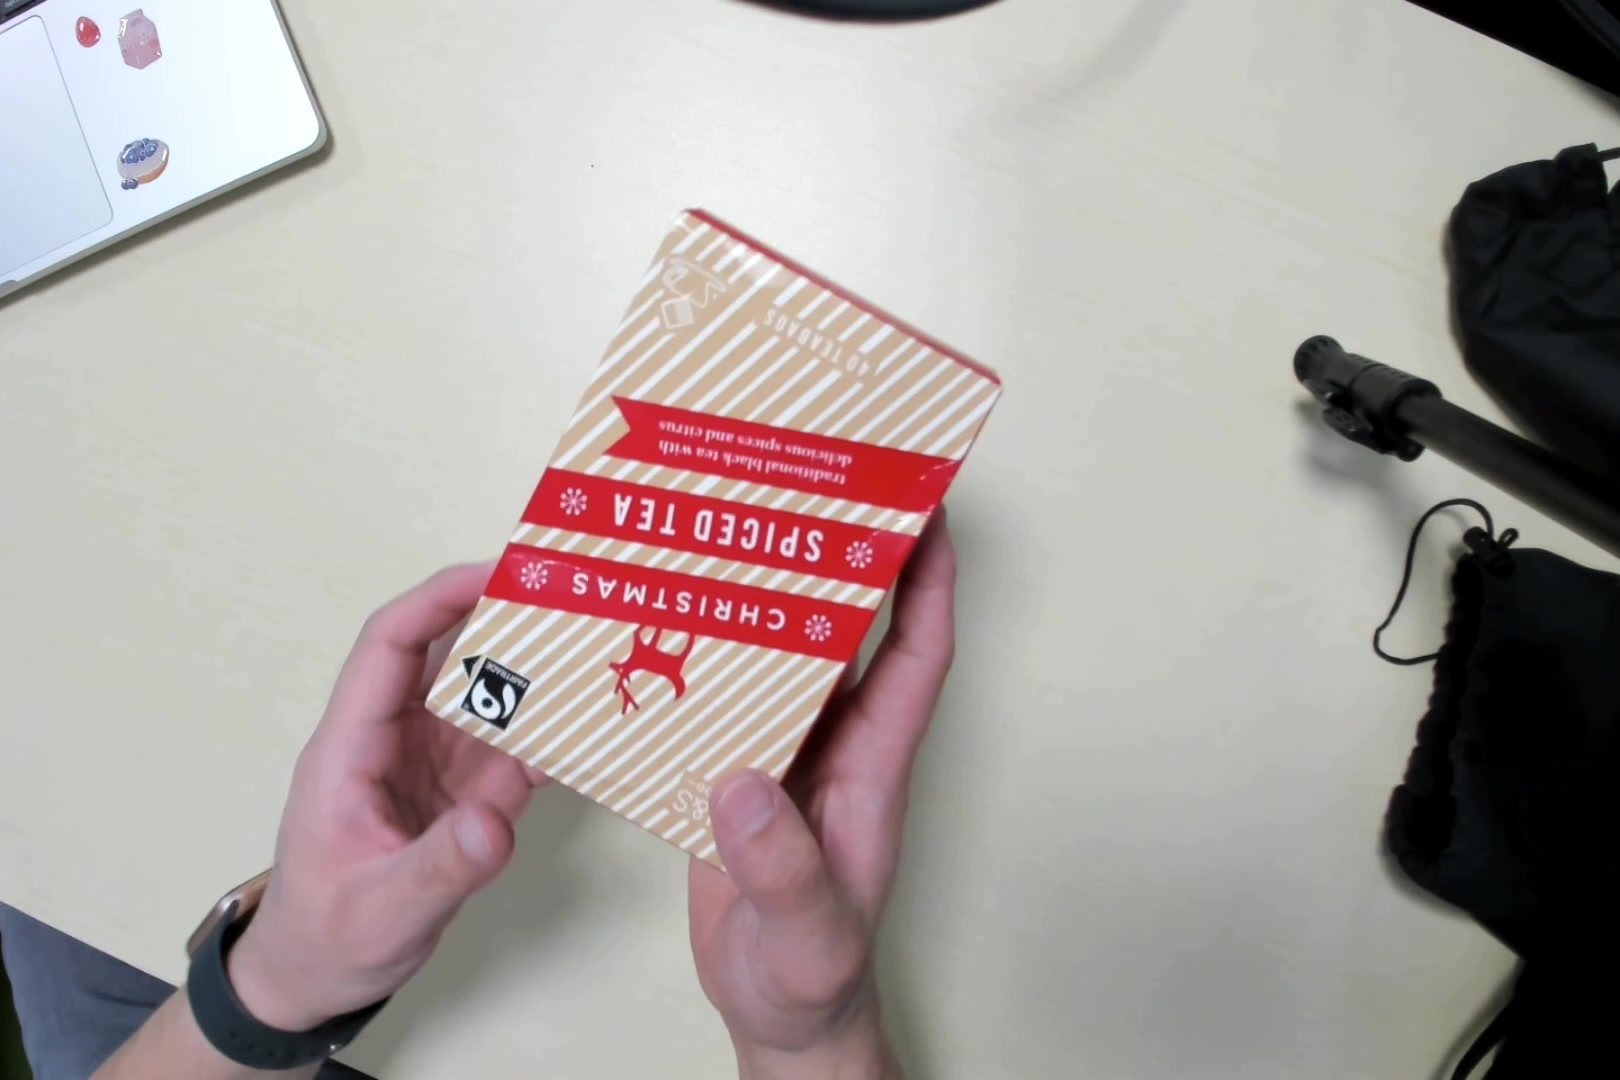Tea(PowderLeaves)_100-199g_Halal_NonHealthy: (423, 200, 1008, 865)
